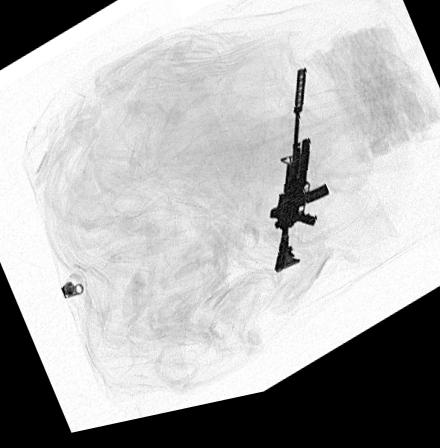Gun: (270, 79, 329, 285)
